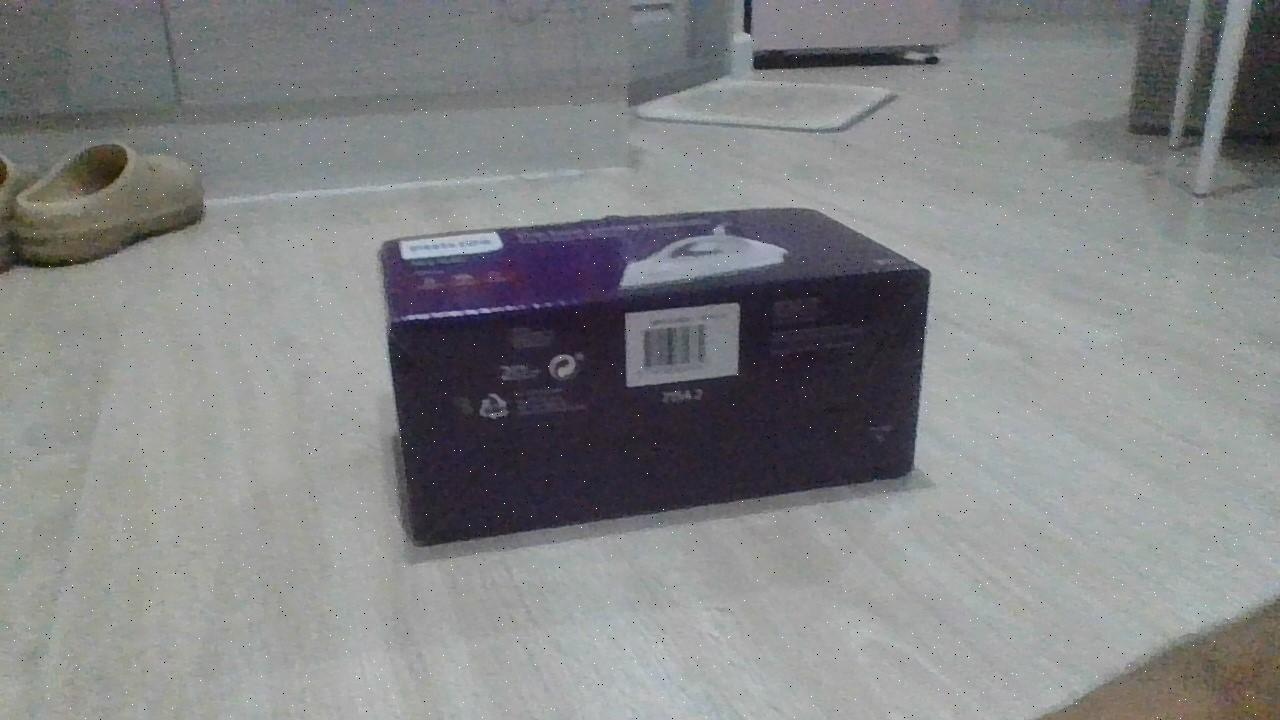IRON: (374, 202, 935, 552)
